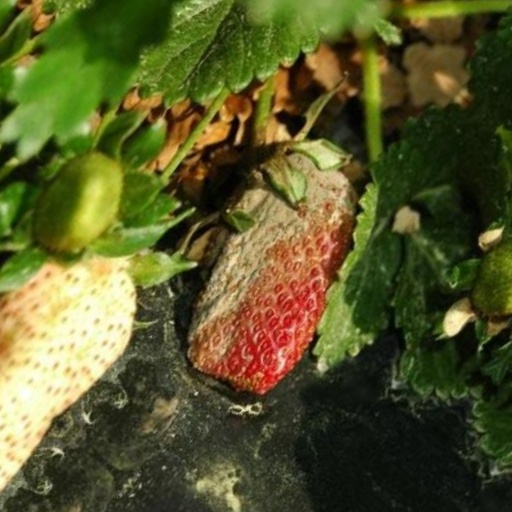Gray Mold: (197, 116, 360, 381)
